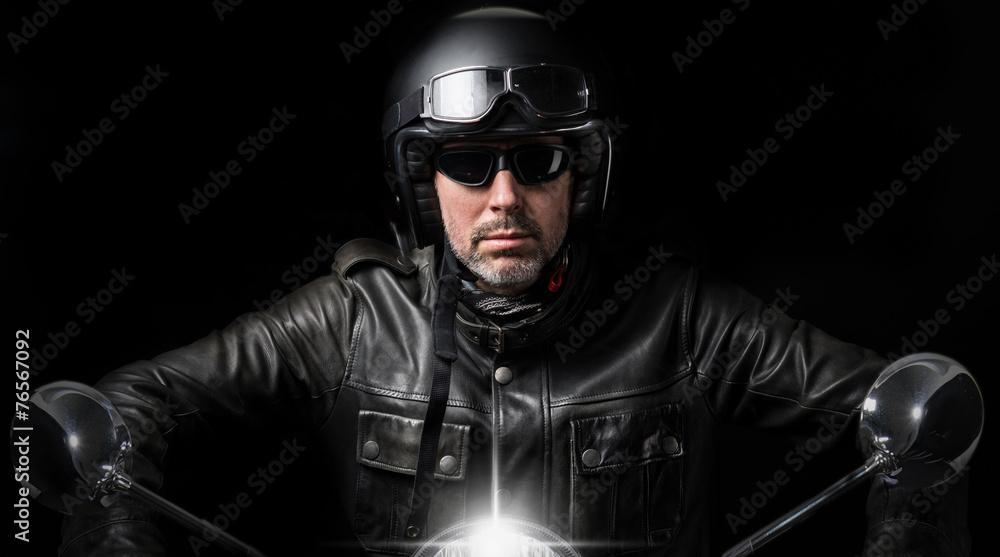helmet: (378, 2, 616, 295)
